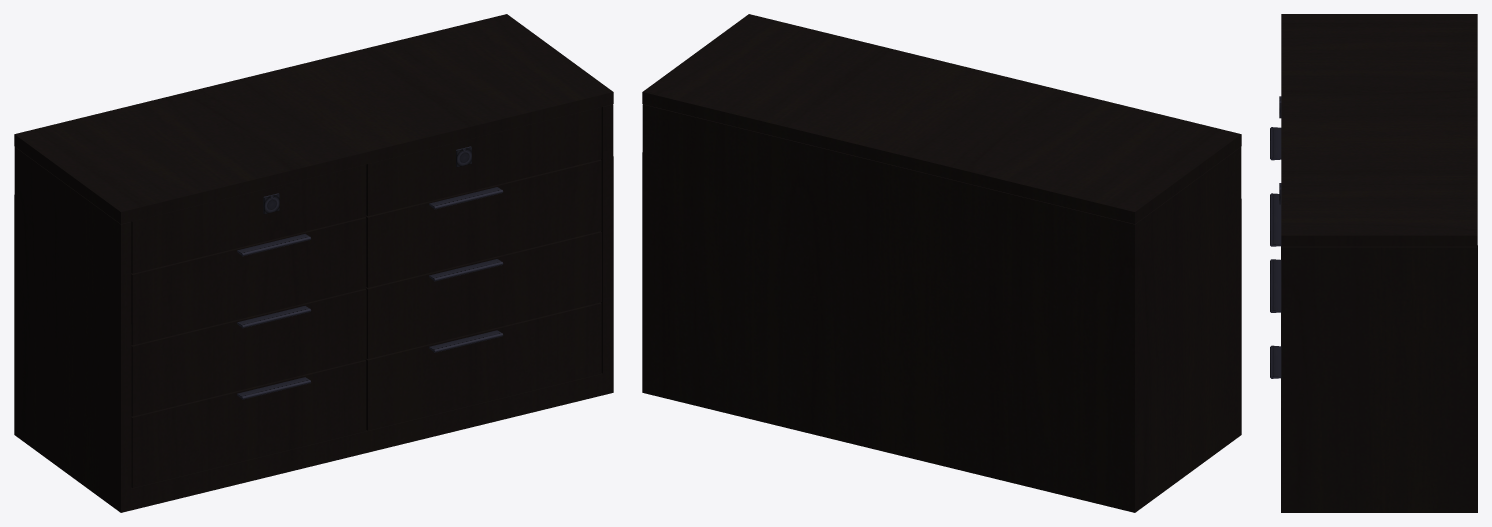
Rendered from BedsideCabinet02A.FBX.
3 views of the same model, side by side, from view 1: azimuth 30°, elevation 25°; view 2: azimuth 150°, elevation 25°; view 3: azimuth 270°, elevation 25° (orthographic). The views are drawn at different scales.
Visible parts, largest first — view 1: BedsideCabinet02A; view 2: BedsideCabinet02A; view 3: BedsideCabinet02A.
Boxes of the visible parts, <box> form: BedsideCabinet02A: <box>14,14,613,512</box>; BedsideCabinet02A: <box>642,14,1241,512</box>; BedsideCabinet02A: <box>1270,14,1477,512</box>.
Size of the model in its own units: 120 by 47.5 by 69.98.
